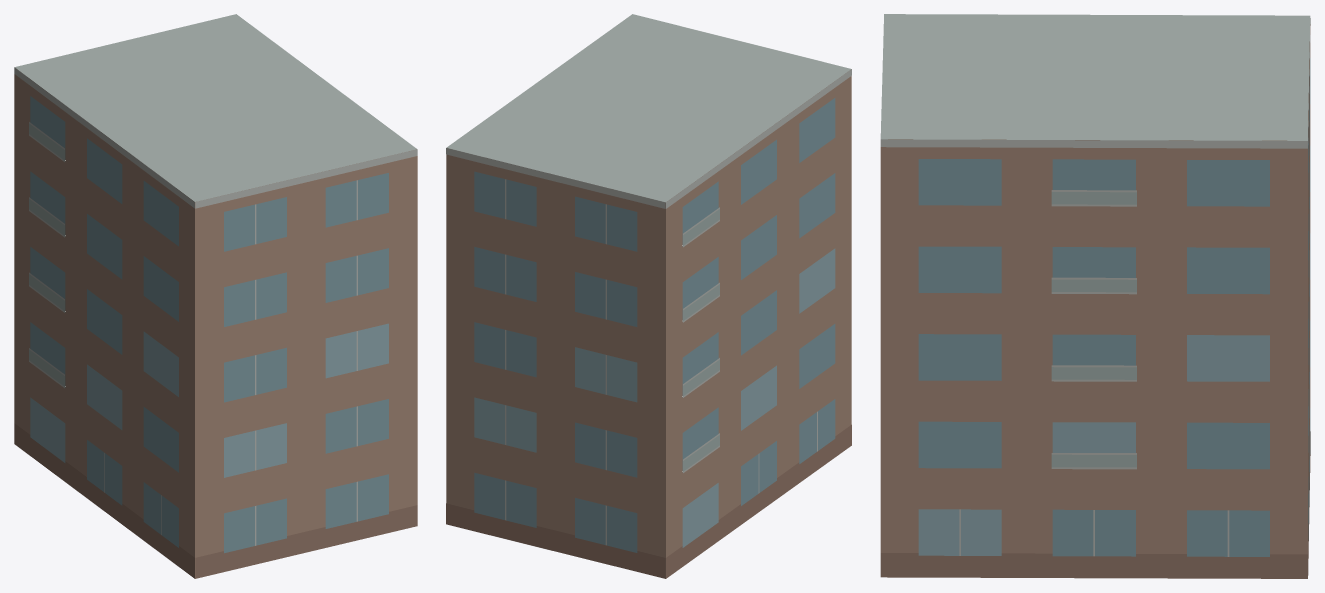
File: survey-upis-32872920.glb
3 renders of one model, left to right at view 1: azimuth 30°, elevation 25°; view 2: azimuth 150°, elevation 25°; view 3: azimuth 270°, elevation 25°, orthographic. The views are drawn at different scales.
Visible parts, largest first — view 1: survey-upis-32872920.tmp; view 2: survey-upis-32872920.tmp; view 3: survey-upis-32872920.tmp.
Boxes of the visible parts, box(x1,y1,x2,y2) form: survey-upis-32872920.tmp: box(14, 14, 417, 578); survey-upis-32872920.tmp: box(446, 14, 851, 578); survey-upis-32872920.tmp: box(880, 14, 1310, 578).
Bounding box in the file's own units: 8.52 × 13.7 × 12.19.
